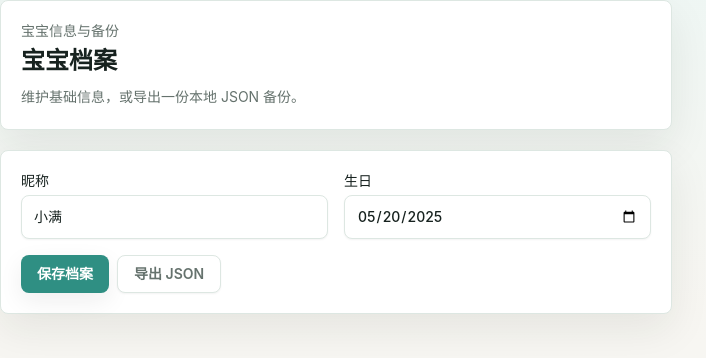
ProfilePage › prevents duplicate exports while exporting
The width and height of the screenshot is (706, 358).
Double-click the button "导出 JSON" at (169, 274), box [117,255,221,293]
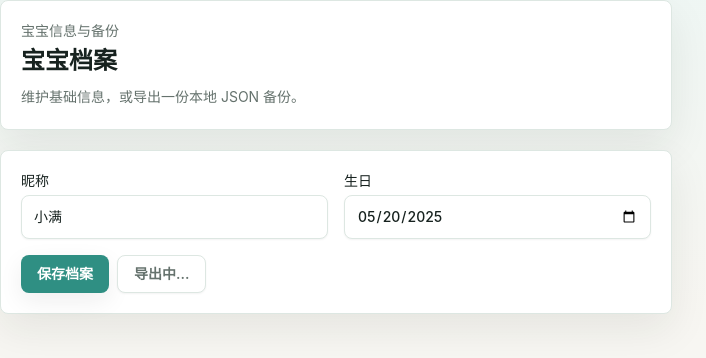
Check: the button "导出中..." is disabled, box [117,255,206,293]
